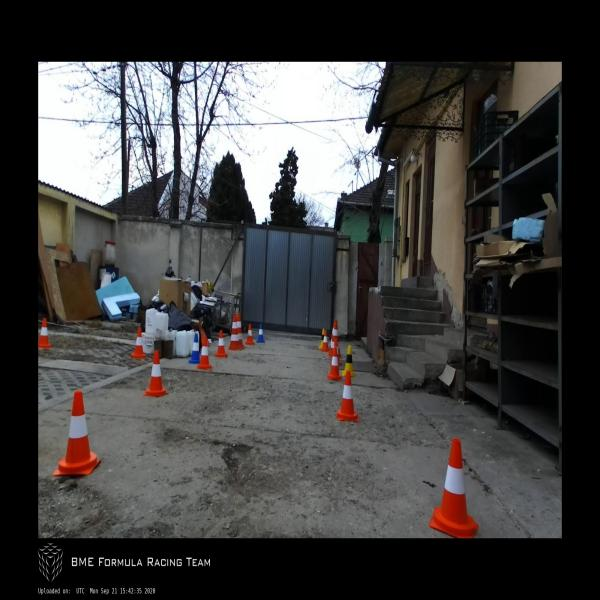blue_cone: (188, 334, 200, 364), (256, 323, 265, 342)
large_orange_cone: (328, 319, 342, 357), (227, 314, 241, 351), (238, 313, 246, 349)
orange_cone: (429, 438, 479, 538), (52, 390, 102, 476), (336, 371, 360, 422), (143, 351, 168, 396), (327, 347, 343, 380), (196, 337, 212, 369), (130, 328, 146, 358), (38, 318, 51, 348), (215, 330, 228, 358), (320, 331, 330, 352), (245, 324, 254, 345)
yellow_cone: (342, 344, 356, 378), (319, 328, 325, 349)
